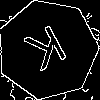K: (23, 24, 74, 80)
